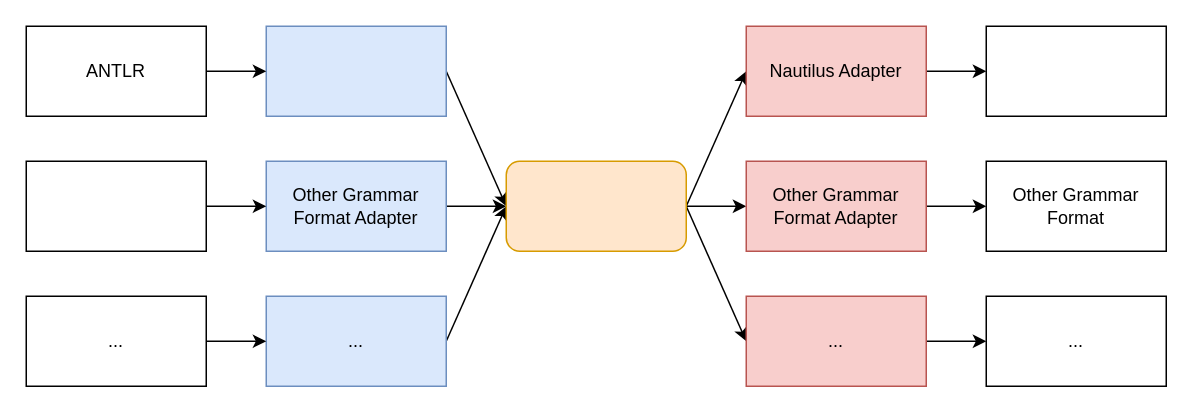
Some shapes in this 1193 by 413 pixel diagram are drawn without their labels. Here are the shapes that lost their labels. From the top down, the centre of each, then its label:
point (355, 70): ANTLR Adapter
point (1075, 70): Nautilus
point (115, 205): Other Grammar Fromat
point (595, 205): Babel IR
